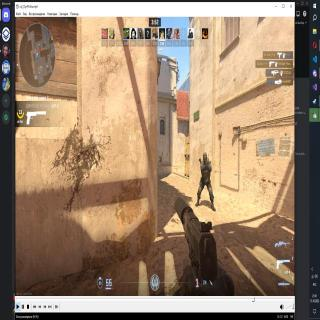CT-Body: (195, 151, 215, 208)
CT-Head: (202, 152, 209, 164)
